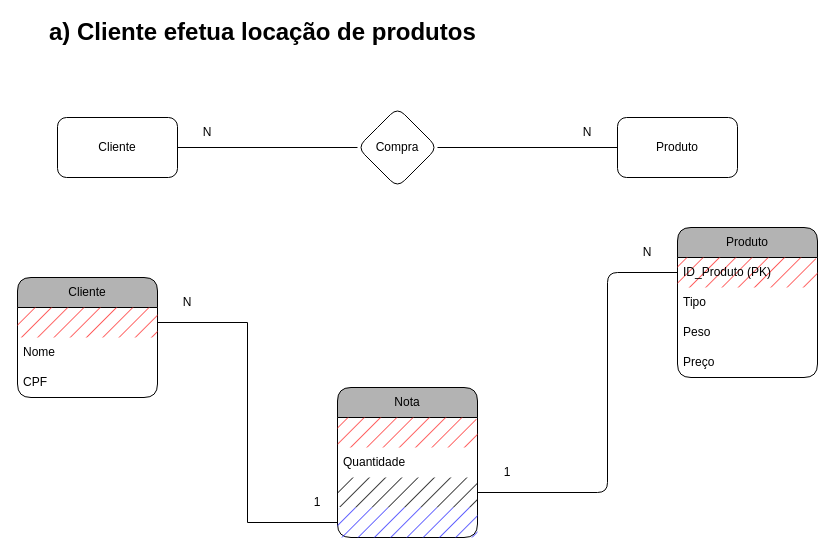
This 835x555 diagram has some shape labels left out. Here are the shapes that lost their labels. From the top down, the centre of each, then its label:
At pixel 87 322: "ID_Cliente(PK)".
At pixel 407 432: "ID_Nota(PK)".
At pixel 407 492: "ID_Produto(FK)".
At pixel 407 522: "ID_Cliente(FK)".
